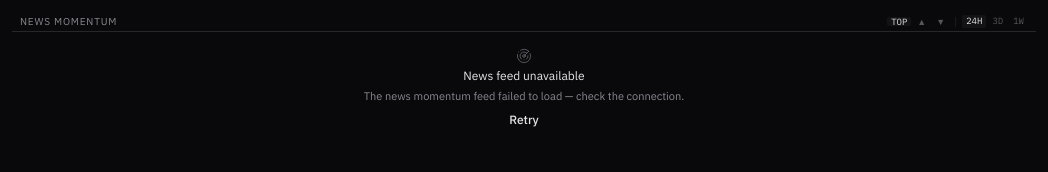
Test: Round 4 — error states carry a working Retry action › AiSignalsWidget: error → Retry click → refetch recovers the news feed
Expected: the text "News feed unavailable" is shown, top-left (463, 68), bottom-right (585, 85)
// Retry → second getAiSignals call → the recovered momentum row renders.
Click the button "Retry".
click(524, 120)  # box top-left (501, 108), bottom-right (547, 132)
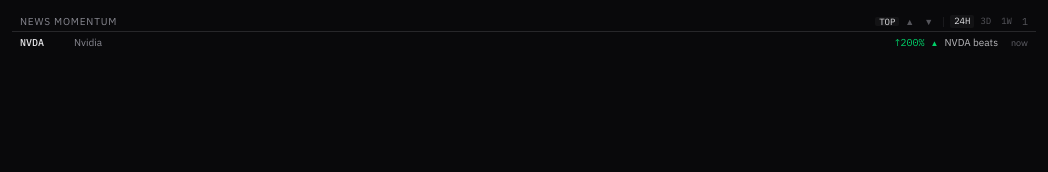
Result: the text "NVDA" is shown at top-left (20, 36), bottom-right (44, 49)
